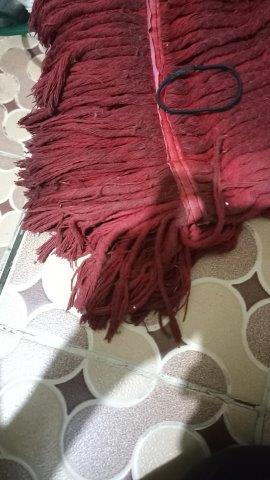karet: (156, 64, 244, 115)
